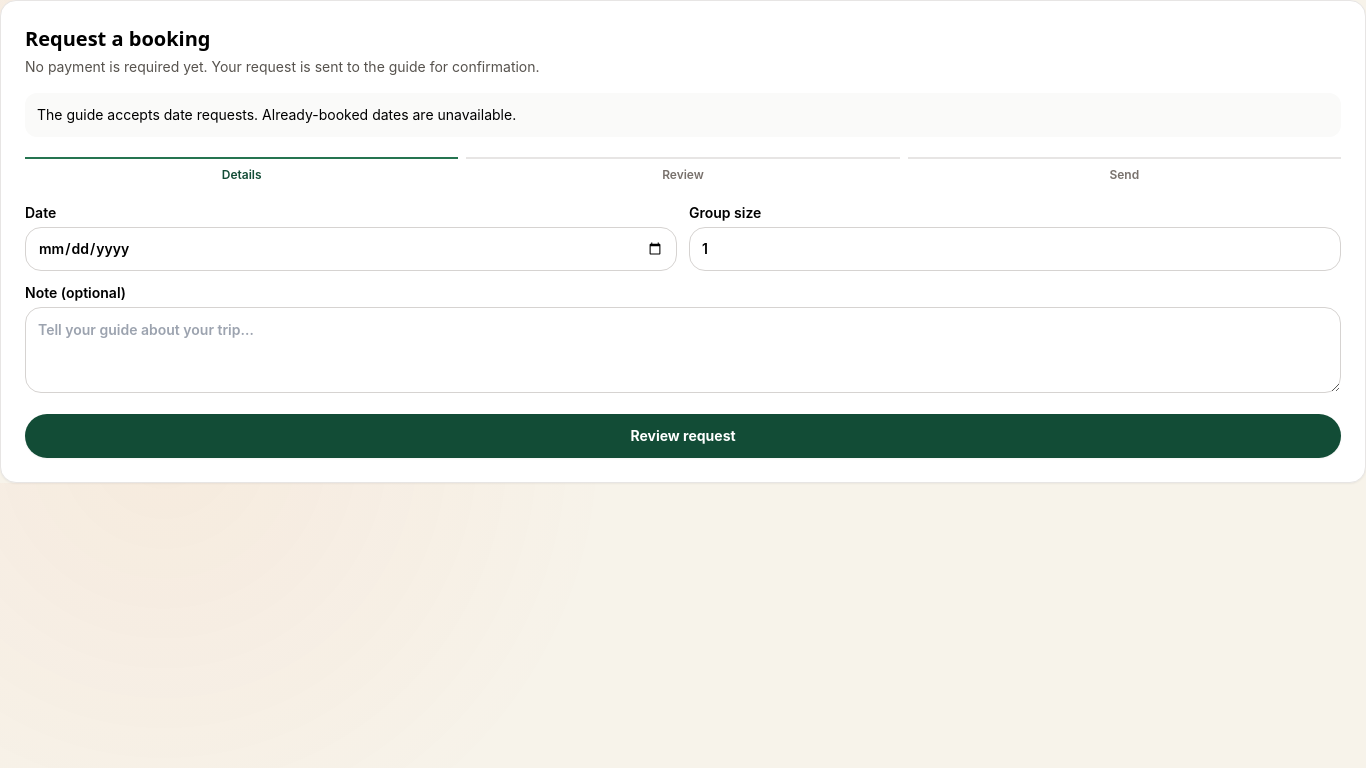
it: rejects a past date before review or sending
Expected: the text "The guide accepts date requests. Already-booked dates are unavailable." is shown, [25,93,1341,137]
Type "2000-01-01" into the date field labelled "Date" at (351, 249), box [25,227,677,271]
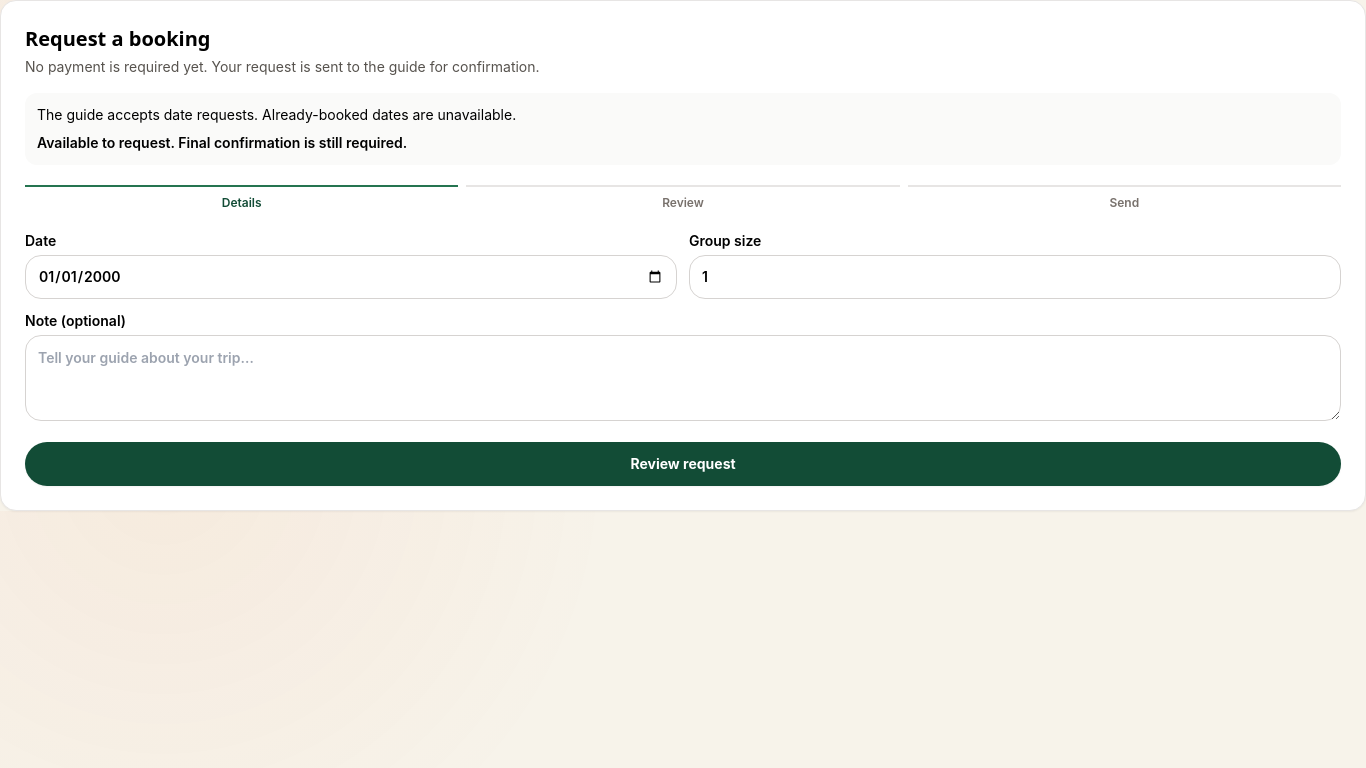
Submit the form
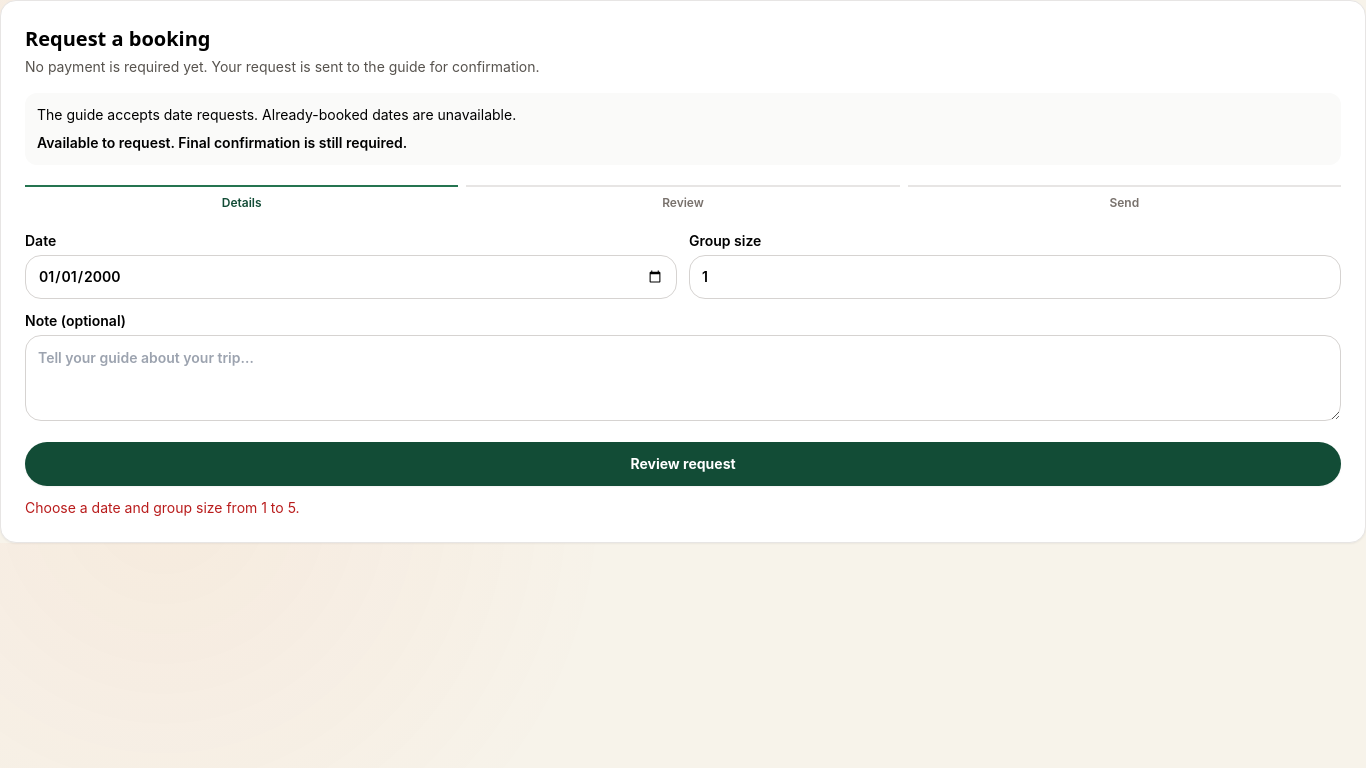
Expected: the message "Choose a date and group size from 1 to 5." is shown, [25,499,300,516]
